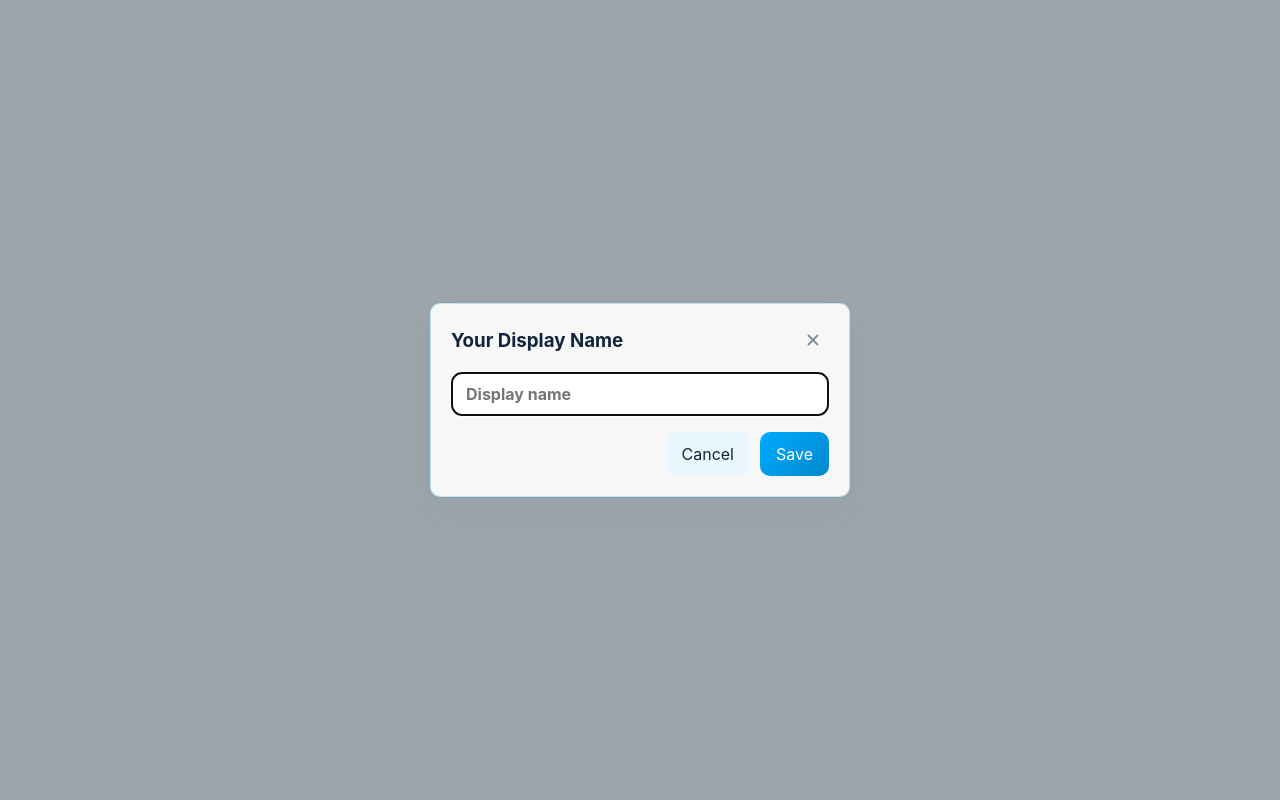
requires a display name before confirming
Click the button "Save".
click(794, 454)  # box top-left (760, 432), bottom-right (829, 476)
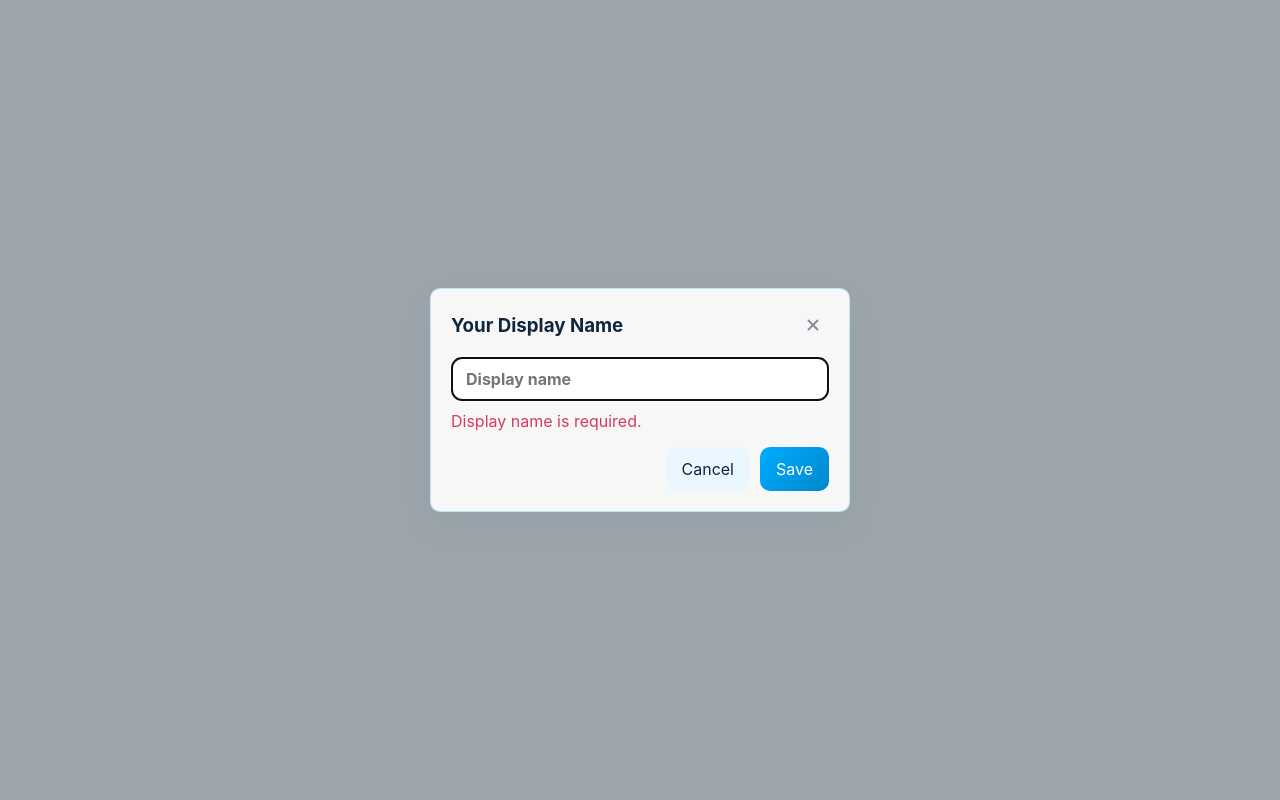
Expected: the message reads "Display name is required.", top-left (451, 411), bottom-right (642, 431)
